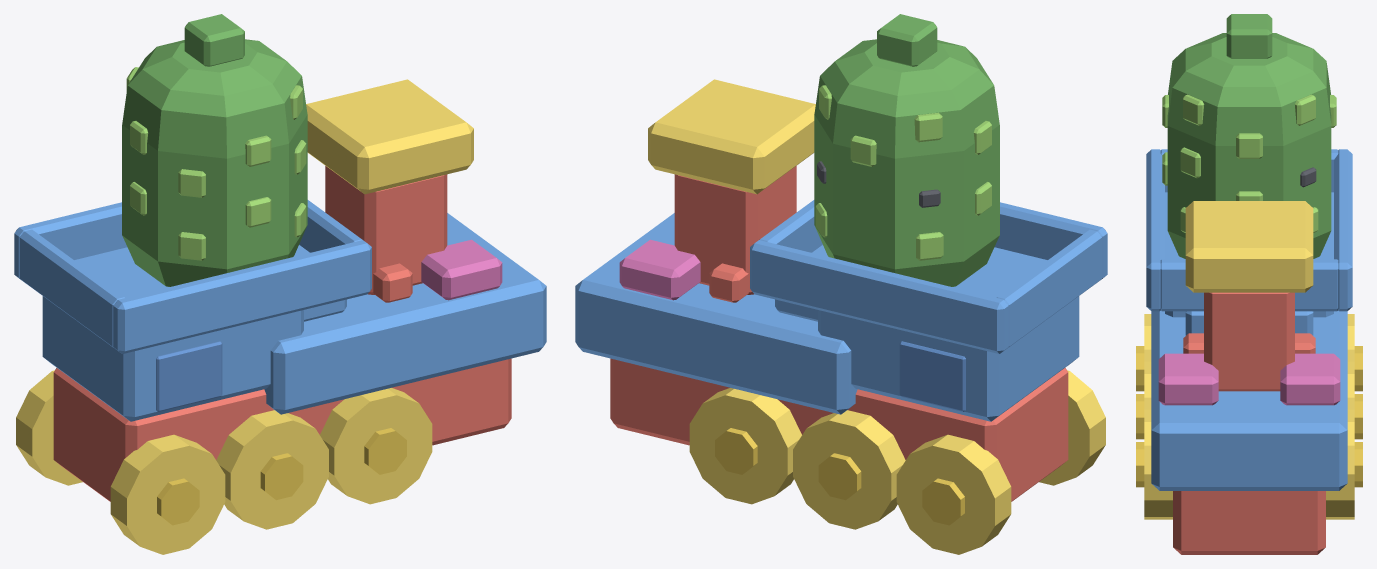
File: ToylandToyTrainCucumber.fbx
3 renders of one model, left to right at view 1: azimuth 30°, elevation 25°; view 2: azimuth 150°, elevation 25°; view 3: azimuth 270°, elevation 25°, orthographic. The views are drawn at different scales.
Parts seen in each view (by area): view 1: ToylandToyTrainCucumber.Chassis, ToylandToyTrainCucumber.Wheels, ToylandToyTrainCucumber.Cuke, ToylandToyTrainCucumber.Under, ToylandToyTrainCucumber.CukeStuds, ToylandToyTrainCucumber.Hubs, ToylandToyTrainCucumber.Window, ToylandToyTrainCucumber.Blocks; view 2: ToylandToyTrainCucumber.Chassis, ToylandToyTrainCucumber.Wheels, ToylandToyTrainCucumber.Cuke, ToylandToyTrainCucumber.Under, ToylandToyTrainCucumber.Hubs, ToylandToyTrainCucumber.CukeStuds, ToylandToyTrainCucumber.Window, ToylandToyTrainCucumber.Blocks; view 3: ToylandToyTrainCucumber.Chassis, ToylandToyTrainCucumber.Cuke, ToylandToyTrainCucumber.Under, ToylandToyTrainCucumber.Wheels, ToylandToyTrainCucumber.Blocks, ToylandToyTrainCucumber.CukeStuds, ToylandToyTrainCucumber.Hubs.
Part boxes in pixels (<box>): ToylandToyTrainCucumber.Chassis: <box>14,200,546,421</box>; ToylandToyTrainCucumber.Wheels: <box>16,79,473,554</box>; ToylandToyTrainCucumber.Cuke: <box>122,14,307,286</box>; ToylandToyTrainCucumber.Under: <box>53,166,511,501</box>; ToylandToyTrainCucumber.CukeStuds: <box>126,67,306,260</box>; ToylandToyTrainCucumber.Hubs: <box>157,428,406,525</box>; ToylandToyTrainCucumber.Window: <box>156,341,222,411</box>; ToylandToyTrainCucumber.Blocks: <box>421,239,502,300</box>; ToylandToyTrainCucumber.Chassis: <box>575,200,1107,421</box>; ToylandToyTrainCucumber.Wheels: <box>648,79,1105,554</box>; ToylandToyTrainCucumber.Cuke: <box>814,14,999,286</box>; ToylandToyTrainCucumber.Under: <box>610,166,1068,501</box>; ToylandToyTrainCucumber.Hubs: <box>715,428,964,525</box>; ToylandToyTrainCucumber.CukeStuds: <box>815,85,991,260</box>; ToylandToyTrainCucumber.Window: <box>899,341,965,411</box>; ToylandToyTrainCucumber.Blocks: <box>619,239,700,300</box>; ToylandToyTrainCucumber.Chassis: <box>1146,149,1352,490</box>; ToylandToyTrainCucumber.Cuke: <box>1167,14,1331,258</box>; ToylandToyTrainCucumber.Under: <box>1173,292,1325,554</box>; ToylandToyTrainCucumber.Wheels: <box>1144,201,1354,519</box>; ToylandToyTrainCucumber.Blocks: <box>1158,353,1340,405</box>; ToylandToyTrainCucumber.CukeStuds: <box>1162,94,1336,232</box>; ToylandToyTrainCucumber.Hubs: <box>1136,346,1362,487</box>.
Size of the model in its own units: 4.6 by 4.7 by 2.2.
